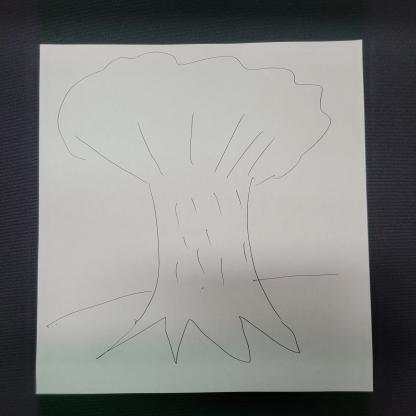branch_line: (136, 115, 273, 185)
crown_cloud: (58, 53, 331, 186)
root_upside: (93, 261, 301, 364)
trunk_bark: (149, 194, 259, 271)
